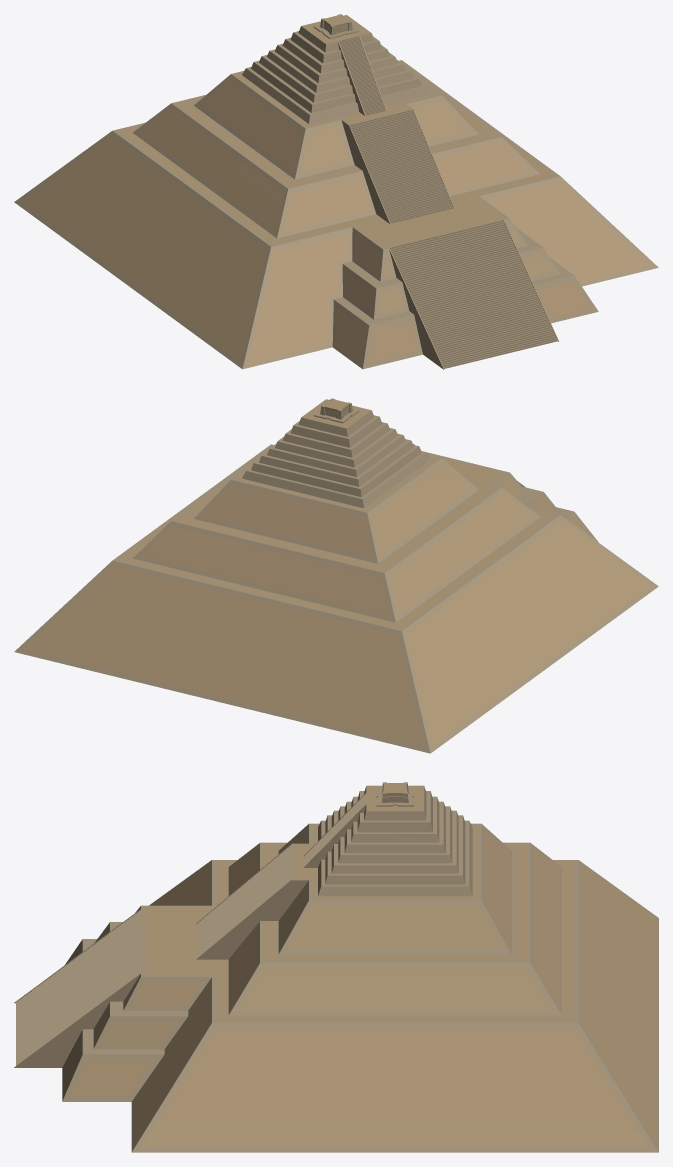
Rendered from Building_Pyramid_Ziggurat_Large_01.fbx.
3 renders of one model, top to bottom at view 1: azimuth 30°, elevation 25°; view 2: azimuth 150°, elevation 25°; view 3: azimuth 270°, elevation 25°, orthographic. The views are drawn at different scales.
Parts seen in each view (by area): view 1: Building_Pyramid_Ziggurat_Large_01; view 2: Building_Pyramid_Ziggurat_Large_01; view 3: Building_Pyramid_Ziggurat_Large_01.
Part boxes in pixels (<box>): Building_Pyramid_Ziggurat_Large_01: <box>14,14,658,369</box>; Building_Pyramid_Ziggurat_Large_01: <box>14,398,658,753</box>; Building_Pyramid_Ziggurat_Large_01: <box>14,782,658,1152</box>.
Size of the model in its own units: 44820 by 22050 by 52071.
